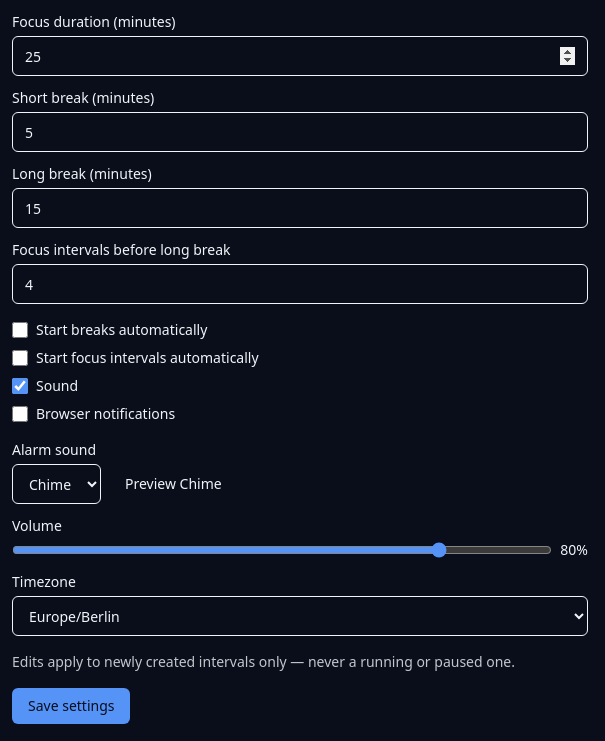
Test: <SettingsForm /> (spec §8.7) › previews the selected preset at the set volume
The image size is (605, 741).
expect the button "Save settings" is shown: met, box [12,688,130,724]
expect the button "Preview Chime" is shown: met, box [109,466,238,502]
Select "Gong" in the dropdown labelled "Alarm sound" at (56,484), box [12,464,101,504]
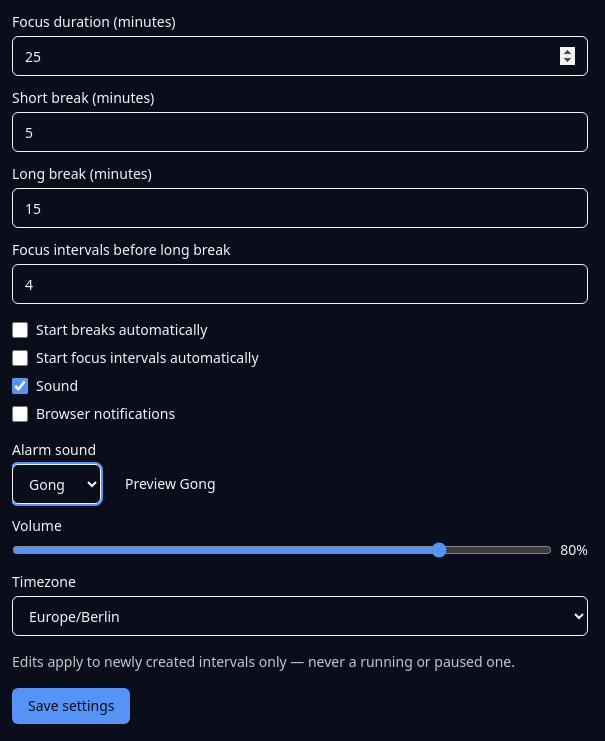
expect the button "Preview Gong" is shown: met, box [109,466,232,502]
